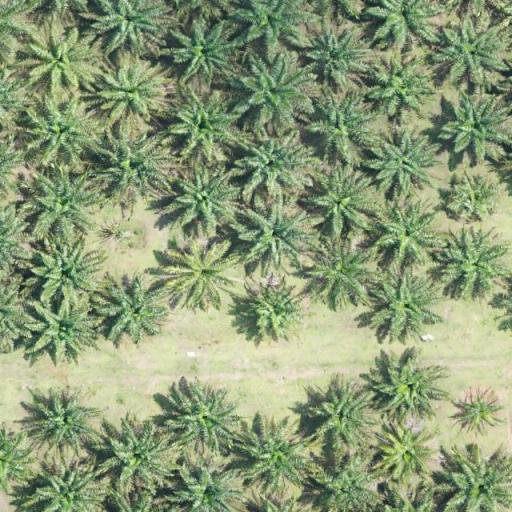Ganoderma: (380, 427, 432, 472), (456, 394, 499, 430)
